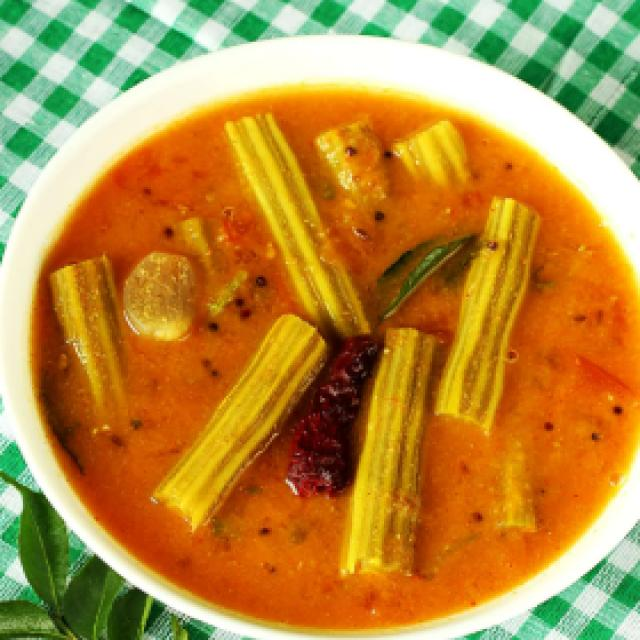sambar: (83, 59, 614, 518)
